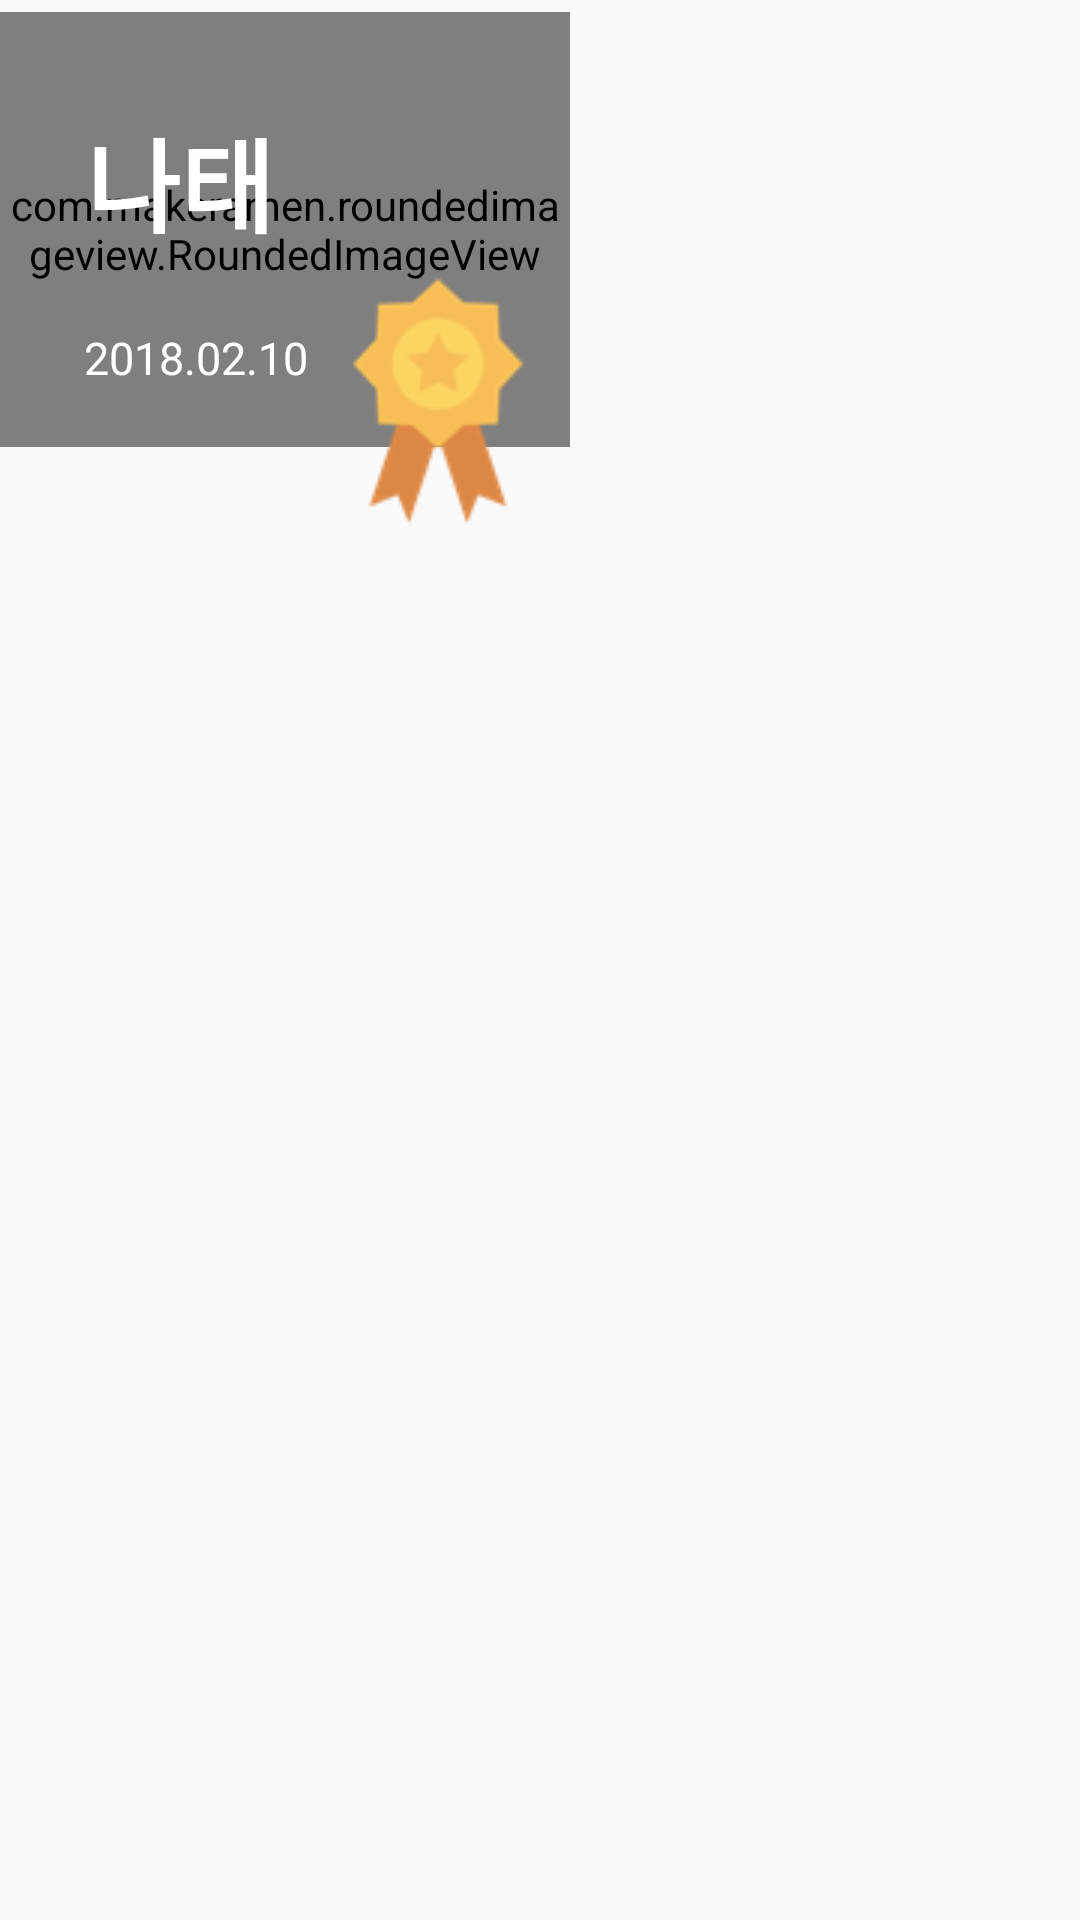

Point at icon controls on the screen. Image size 1080 x 1920, points as [x,y].
medal: [438,401]
